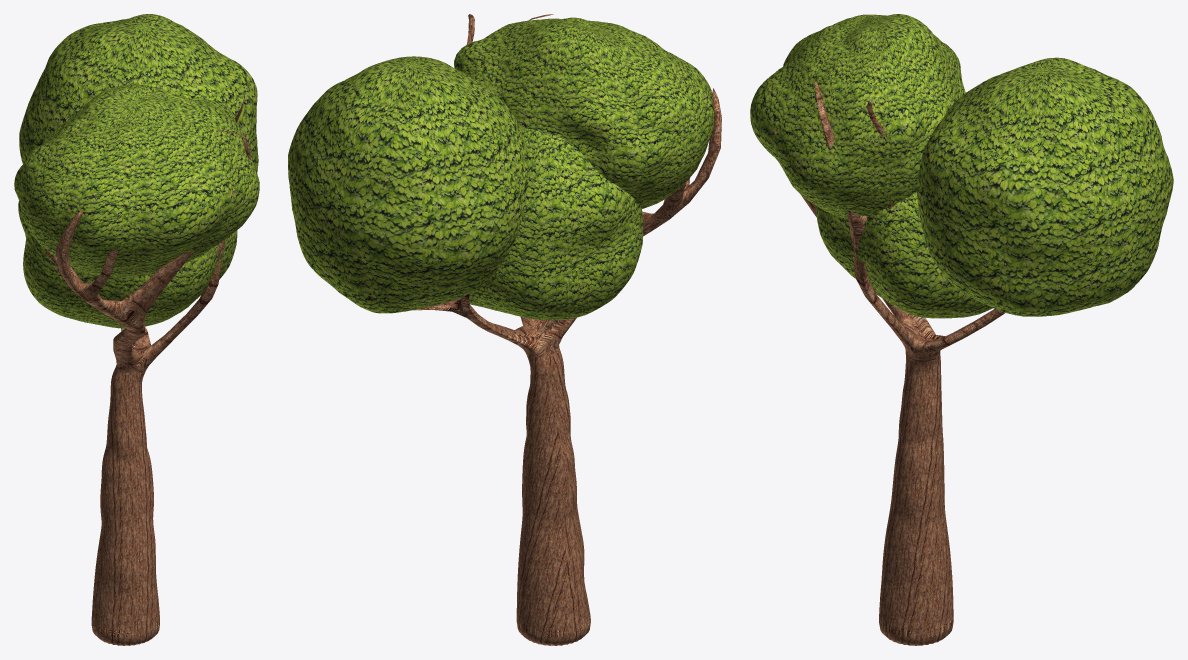
File: tree.fbx
3 renders of one model, left to right at view 1: azimuth 30°, elevation 25°; view 2: azimuth 150°, elevation 25°; view 3: azimuth 270°, elevation 25°, orthographic. The views are drawn at different scales.
Parts seen in each view (by area): view 1: Sphere.001, Cylinder, Sphere, Sphere.002; view 2: Sphere, Sphere.001, Cylinder, Sphere.002; view 3: Sphere, Sphere.001, Cylinder, Sphere.002.
Boxes of the visible parts, x1,y1,x2,y2 form: Sphere.001: [14, 84, 259, 277]; Cylinder: [43, 94, 251, 645]; Sphere: [19, 14, 258, 172]; Sphere.002: [18, 201, 237, 328]; Sphere: [288, 56, 528, 313]; Sphere.001: [454, 17, 714, 208]; Cylinder: [413, 14, 721, 645]; Sphere.002: [459, 126, 642, 320]; Sphere: [917, 57, 1173, 316]; Sphere.001: [750, 14, 965, 219]; Cylinder: [774, 80, 1004, 645]; Sphere.002: [816, 92, 992, 318].
Size of the model in its own units: 2154 by 3920 by 2462.
